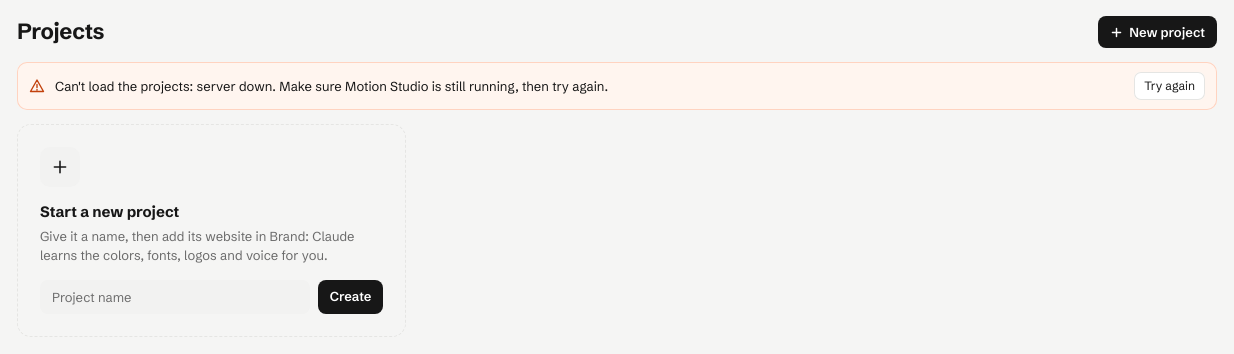
Test: Projects · cards › explains a load failure with a way to retry
Expected: the message shows "server down", 55,78 -> 608,94
What coordinates should you click on to do the following:
click the button "Try again"
I would click on:
 (1170, 86)
Its box is 1134,72 -> 1205,100.
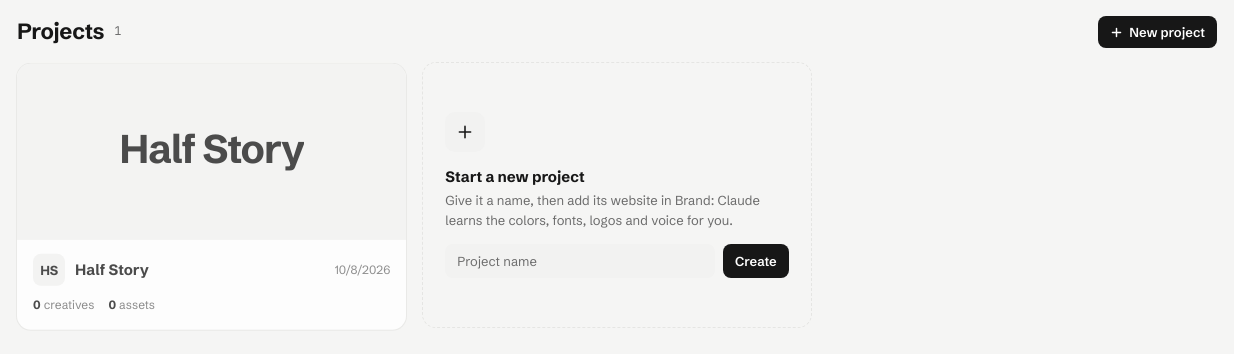
Now the text "Half Story" next to "HS" is shown, box 75,260 -> 149,279
